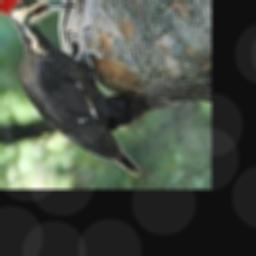Woodpecker: (0, 0, 144, 174)
